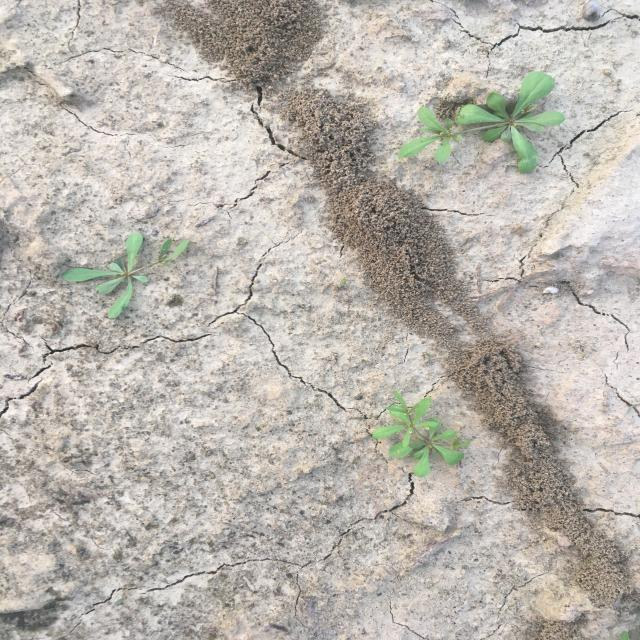Carpetweed: (396, 70, 566, 176), (59, 230, 191, 320), (371, 389, 472, 479)
